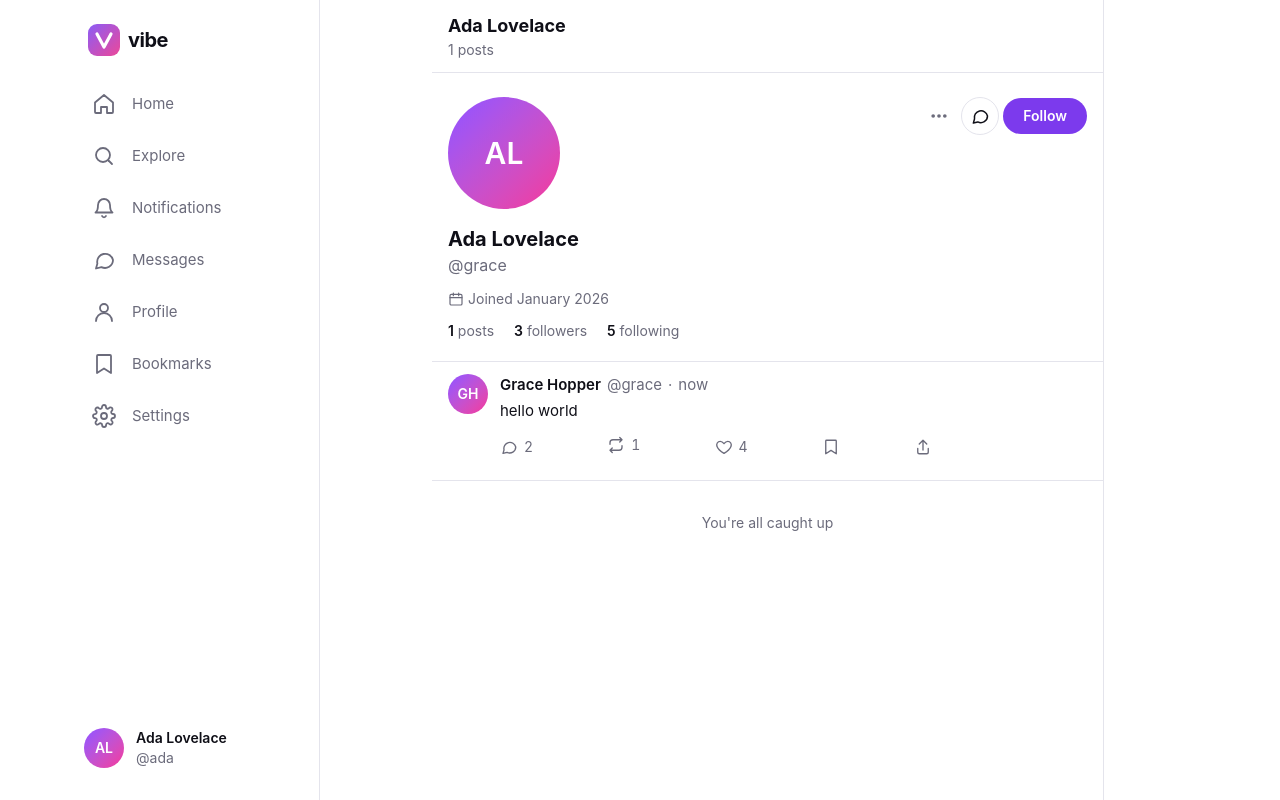
Test: PostCard › shows the server’s reason when an action is refused, not "try again"
Click the button named "Like" at (731, 447), box [706,431,756,463]
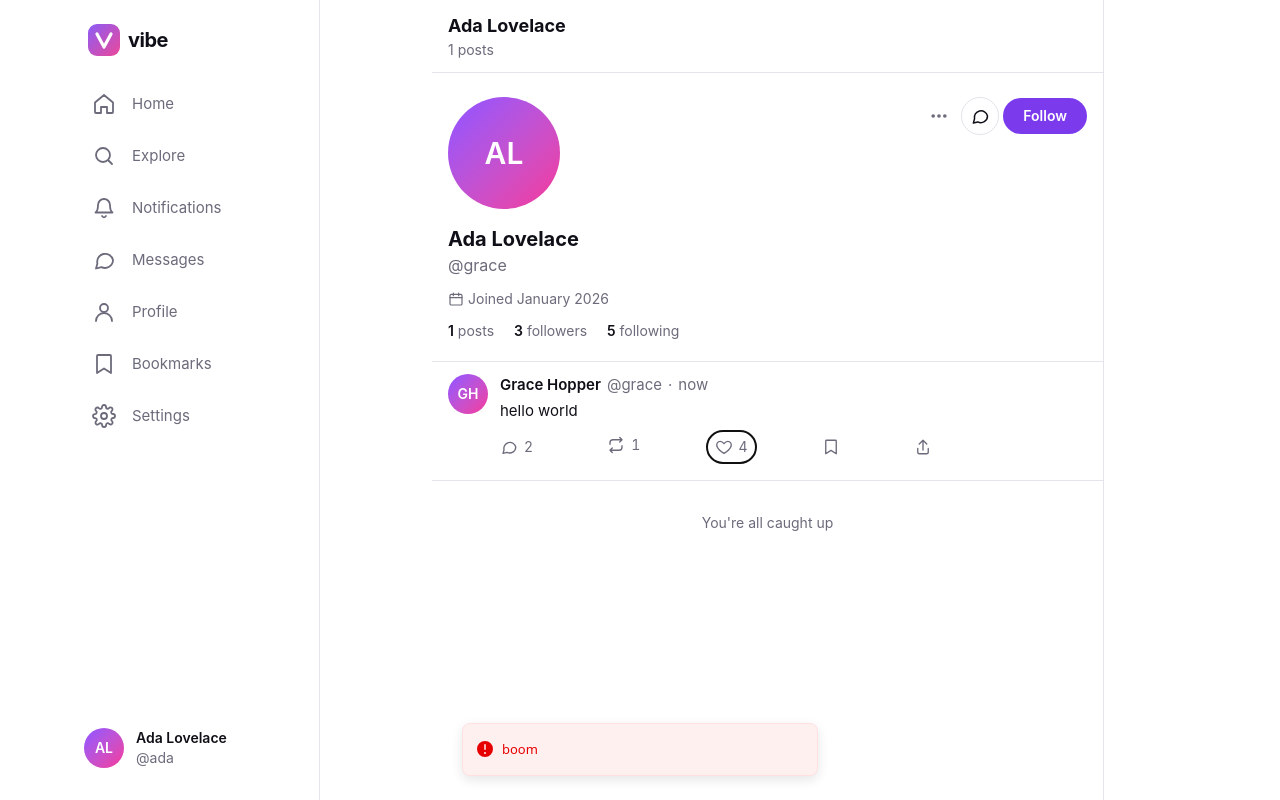
Expected: the text "boom" is shown, [502,740,538,759]
